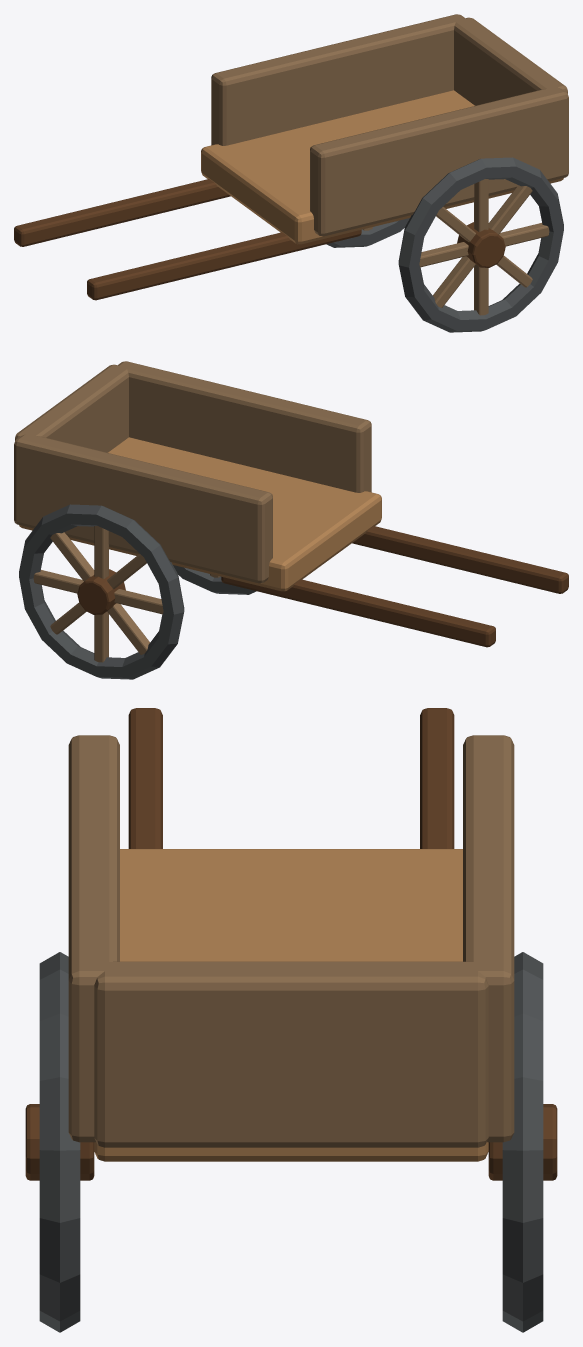
Rendered from handcart_2p4.glb.
The picture shows the model from 3 angles, top to bottom: view 1: azimuth 30°, elevation 25°; view 2: azimuth 150°, elevation 25°; view 3: azimuth 270°, elevation 25°; orthographic projection. The views are drawn at different scales.
Visible parts, largest first — view 1: cart_left_side, cart_right_side, cart_bed, cart_wheel_rim, cart_back, cart_left_handle, cart_right_handle, cart_wheel_spoke_-0.54_04, cart_wheel_spoke_-0.54_03, cart_wheel_spoke_-0.54_01, cart_wheel_hub, cart_wheel_spoke_-0.54_02 (+1 smaller); view 2: cart_right_side, cart_left_side, cart_bed, cart_wheel_rim.001, cart_back, cart_right_handle, cart_left_handle, cart_wheel_spoke_+0.54_04, cart_wheel_spoke_+0.54_03, cart_wheel_spoke_+0.54_01, cart_wheel_hub.001, cart_wheel_spoke_+0.54_02 (+1 smaller); view 3: cart_back, cart_bed, cart_right_side, cart_left_side, cart_wheel_rim, cart_wheel_rim.001, cart_left_handle, cart_right_handle, cart_wheel_hub, cart_wheel_hub.001.
Part boxes in pixels (x1,y1,x2,y2): cart_left_side: [310, 86, 568, 236]; cart_right_side: [211, 14, 465, 145]; cart_bed: [201, 90, 563, 244]; cart_wheel_rim: [398, 157, 563, 332]; cart_back: [454, 17, 567, 105]; cart_left_handle: [87, 230, 361, 300]; cart_right_handle: [14, 179, 230, 246]; cart_wheel_spoke_-0.54_04: [433, 185, 532, 307]; cart_wheel_spoke_-0.54_03: [474, 179, 488, 315]; cart_wheel_spoke_-0.54_01: [419, 223, 549, 267]; cart_wheel_hub: [457, 222, 505, 267]; cart_wheel_spoke_-0.54_02: [436, 207, 532, 287]; cart_right_side: [14, 433, 272, 583]; cart_left_side: [117, 361, 371, 492]; cart_bed: [19, 437, 381, 591]; cart_wheel_rim.001: [19, 504, 184, 679]; cart_back: [15, 364, 128, 452]; cart_right_handle: [221, 577, 495, 647]; cart_left_handle: [352, 526, 568, 593]; cart_wheel_spoke_+0.54_04: [50, 532, 149, 654]; cart_wheel_spoke_+0.54_03: [94, 526, 108, 662]; cart_wheel_spoke_+0.54_01: [33, 570, 163, 614]; cart_wheel_hub.001: [77, 569, 125, 614]; cart_wheel_spoke_+0.54_02: [50, 554, 146, 634]; cart_back: [94, 961, 488, 1147]; cart_bed: [94, 849, 488, 1161]; cart_right_side: [463, 735, 514, 1142]; cart_left_side: [68, 735, 119, 1142]; cart_wheel_rim: [39, 952, 80, 1332]; cart_wheel_rim.001: [502, 952, 543, 1332]; cart_left_handle: [128, 708, 162, 848]; cart_right_handle: [420, 708, 454, 848]; cart_wheel_hub: [25, 1104, 94, 1180]; cart_wheel_hub.001: [488, 1104, 557, 1180].
Size of the model in its own units: 2.52 by 1.11 by 1.24.
